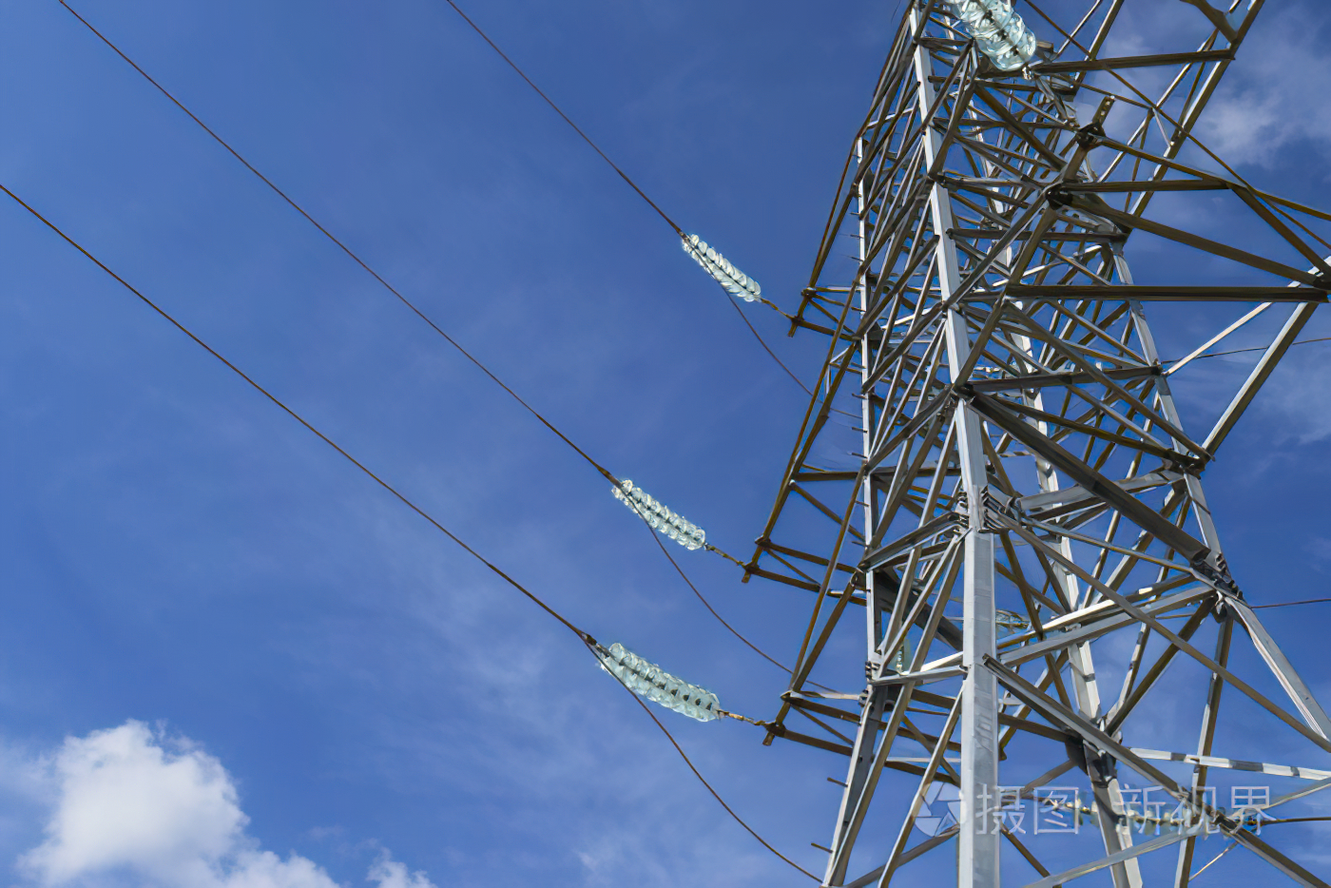insulator: (598, 642, 716, 726), (940, 1, 1043, 73), (616, 475, 709, 551), (681, 230, 762, 302)
